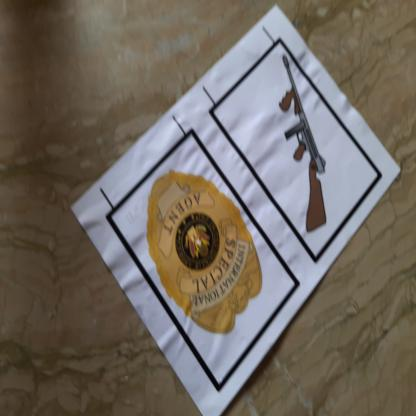Bootlegger: (273, 40, 334, 245)
G-man: (145, 166, 265, 342)
